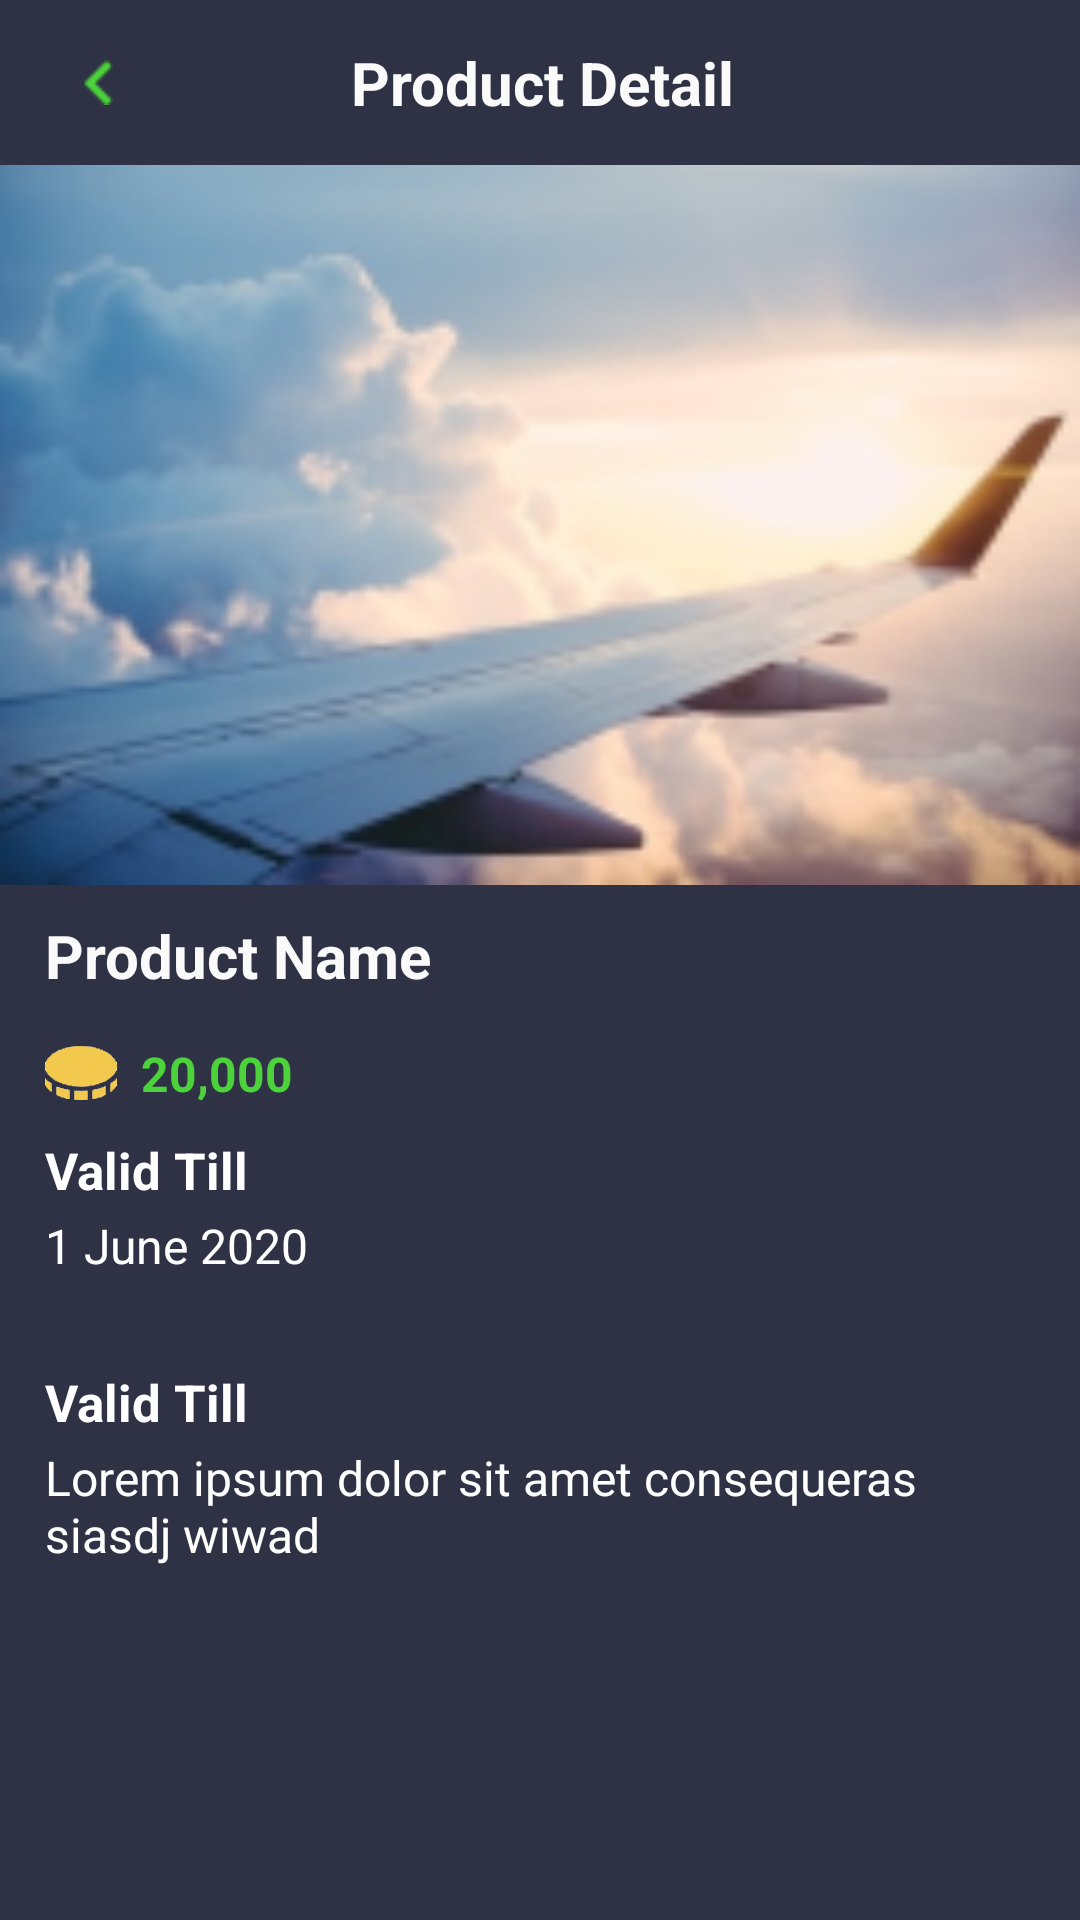

Where to tap for icons on this 1080 × 1920 app screen, as (x=x, y=y):
chevronleft: (x=98, y=82)
coins: (x=81, y=1073)
